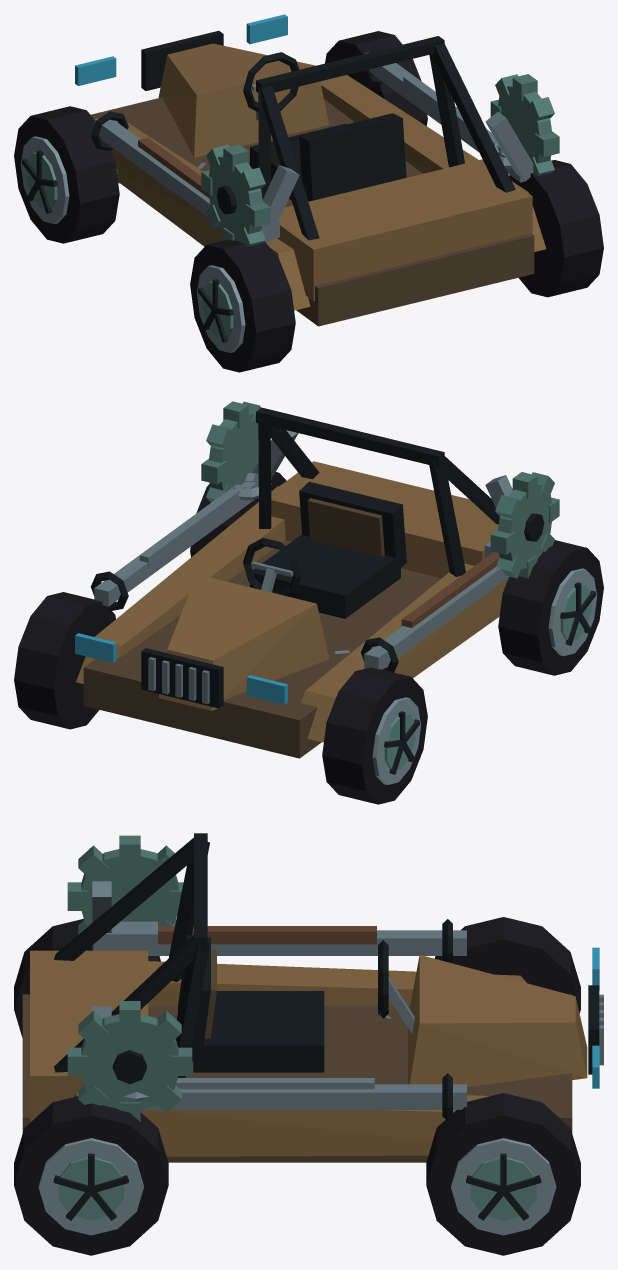
Rendered from kart.glb.
The picture shows the model from 3 angles, top to bottom: view 1: azimuth 30°, elevation 25°; view 2: azimuth 150°, elevation 25°; view 3: azimuth 270°, elevation 25°; orthographic projection. The views are drawn at different scales.
Visible parts, largest first — view 1: identity-buggy-buggy-offroad-frame, wheel-rear-left, wheel-front-left, identity-buggy-motif-gears, identity-buggy-driver-cockpit, wheel-rear-right, identity-buggy-motif-pipes, wheel-front-right, identity-buggy-motif-tools; view 2: identity-buggy-buggy-offroad-frame, identity-buggy-driver-cockpit, wheel-front-left, wheel-rear-left, identity-buggy-motif-gears, wheel-front-right, identity-buggy-motif-pipes, identity-buggy-motif-tools, wheel-rear-right; view 3: identity-buggy-buggy-offroad-frame, wheel-front-right, wheel-rear-right, identity-buggy-motif-gears, identity-buggy-driver-cockpit, identity-buggy-motif-pipes, identity-buggy-motif-tools, wheel-front-left, wheel-rear-left.
Part boxes in pixels (x1=…): identity-buggy-buggy-offroad-frame: x1=75, y1=14, x2=546, y2=326; wheel-rear-left: x1=190, y1=239, x2=295, y2=372; wheel-front-left: x1=14, y1=106, x2=119, y2=243; identity-buggy-motif-gears: x1=201, y1=74, x2=559, y2=246; identity-buggy-driver-cockpit: x1=243, y1=52, x2=406, y2=201; wheel-rear-right: x1=509, y1=160, x2=603, y2=297; identity-buggy-motif-pipes: x1=91, y1=45, x2=533, y2=244; wheel-front-right: x1=325, y1=31, x2=427, y2=125; identity-buggy-motif-tools: x1=138, y1=75, x2=512, y2=239; identity-buggy-buggy-offroad-frame: x1=75, y1=407, x2=508, y2=758; identity-buggy-driver-cockpit: x1=243, y1=481, x2=406, y2=618; wheel-front-left: x1=322, y1=667, x2=427, y2=804; wheel-rear-left: x1=498, y1=540, x2=603, y2=675; identity-buggy-motif-gears: x1=201, y1=401, x2=559, y2=578; wheel-front-right: x1=14, y1=592, x2=115, y2=729; identity-buggy-motif-pipes: x1=90, y1=430, x2=512, y2=672; identity-buggy-motif-tools: x1=139, y1=473, x2=499, y2=627; wheel-rear-right: x1=190, y1=472, x2=286, y2=557; identity-buggy-buggy-offroad-frame: x1=22, y1=833, x2=603, y2=1162; wheel-front-right: x1=426, y1=1093, x2=580, y2=1255; wheel-rear-right: x1=14, y1=1096, x2=168, y2=1255; identity-buggy-motif-gears: x1=67, y1=835, x2=192, y2=1121; identity-buggy-driver-cockpit: x1=178, y1=935, x2=414, y2=1072; identity-buggy-motif-pipes: x1=92, y1=881, x2=466, y2=1121; identity-buggy-motif-tools: x1=93, y1=921, x2=376, y2=1101; wheel-front-left: x1=434, y1=917, x2=580, y2=1013; wheel-rear-left: x1=14, y1=918, x2=160, y2=1037.
Size of the model in its own units: 2.31 by 1.39 by 2.75.
